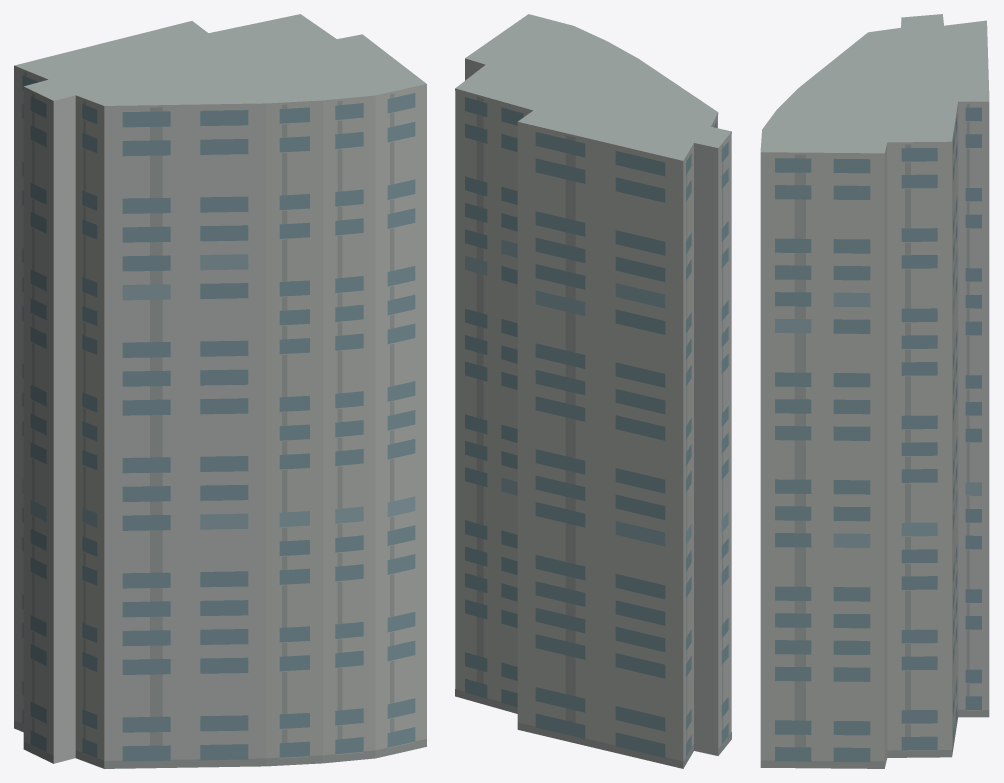
File: residential-a72a0b9a-6073-40b4-8117-d4925bc1d8c6.glb
3 views of the same model, side by side, from view 1: azimuth 30°, elevation 25°; view 2: azimuth 150°, elevation 25°; view 3: azimuth 270°, elevation 25° (orthographic). The views are drawn at different scales.
Parts seen in each view (by area): view 1: residential-a72a0b9a-6073-40b4-8117-d4925bc1d8c6.tmp; view 2: residential-a72a0b9a-6073-40b4-8117-d4925bc1d8c6.tmp; view 3: residential-a72a0b9a-6073-40b4-8117-d4925bc1d8c6.tmp.
Boxes of the visible parts, <box> form: residential-a72a0b9a-6073-40b4-8117-d4925bc1d8c6.tmp: <box>14,14,426,768</box>; residential-a72a0b9a-6073-40b4-8117-d4925bc1d8c6.tmp: <box>455,14,731,768</box>; residential-a72a0b9a-6073-40b4-8117-d4925bc1d8c6.tmp: <box>760,14,989,768</box>.
Size of the model in its own units: 34 by 70 by 23.61.
